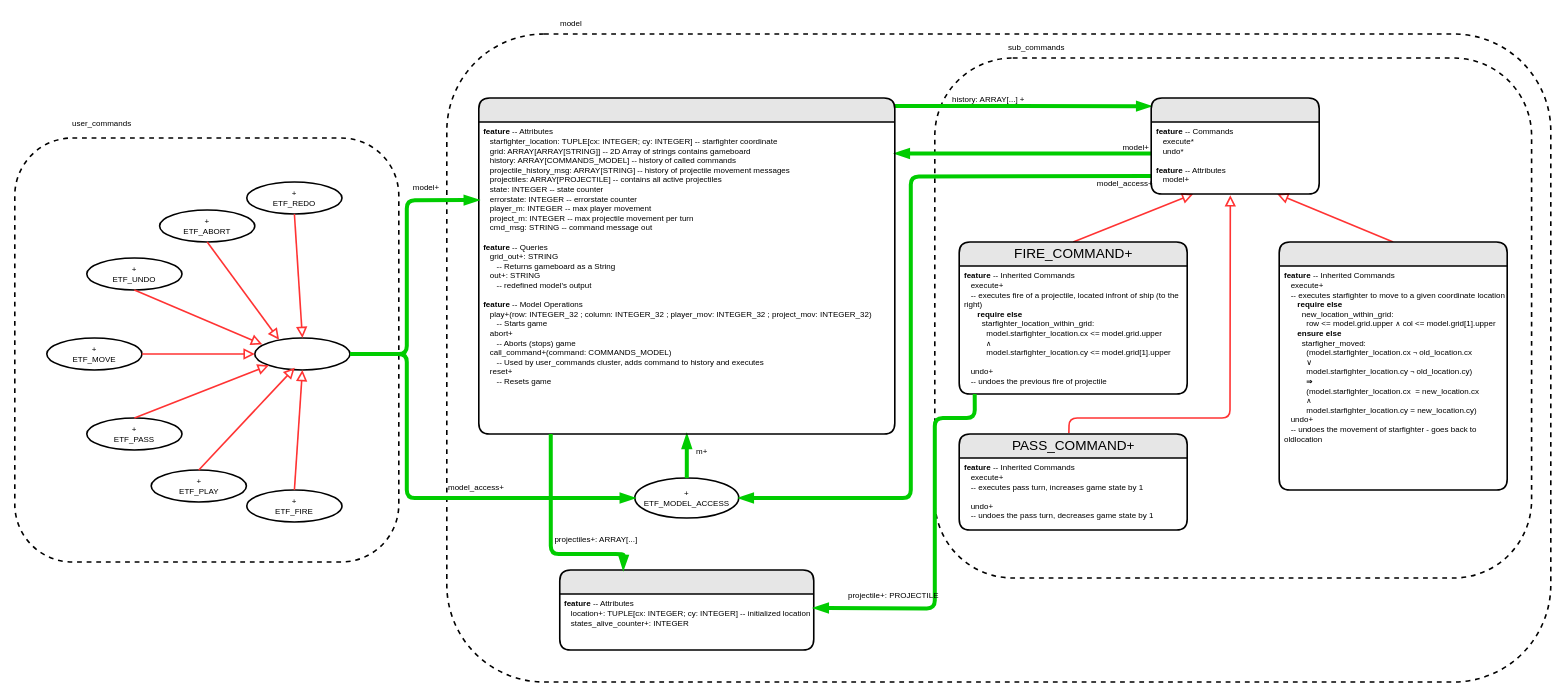
The diagram is 1565 pixels wide and 696 high, and some of its shapes have lost their labels. Here are the shapes that lost their labels. From the top down, the box of each, then its label:
(1150, 97, 1320, 194): COMMANDS_MODEL*
(478, 97, 895, 434): ETF_MODEL+
(254, 337, 350, 370): * ETF_COMMAND
(1278, 241, 1508, 490): MOVE_COMMAND+
(559, 569, 814, 650): PROJECTILE+
